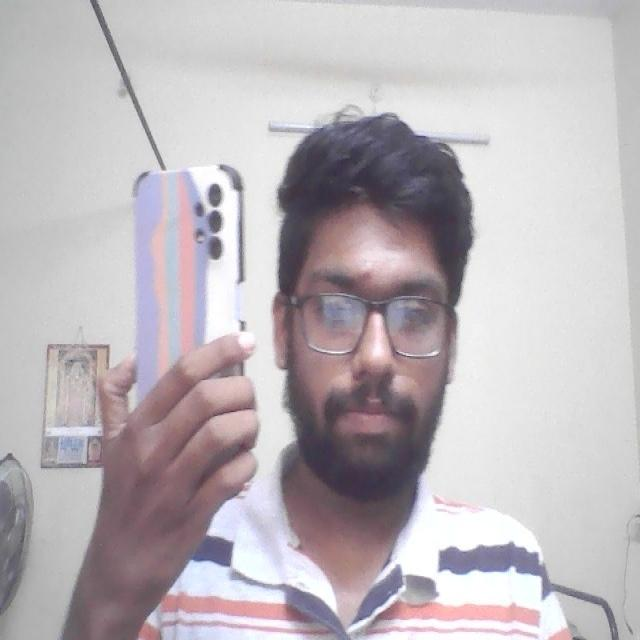Mobile: (120, 157, 249, 367)
